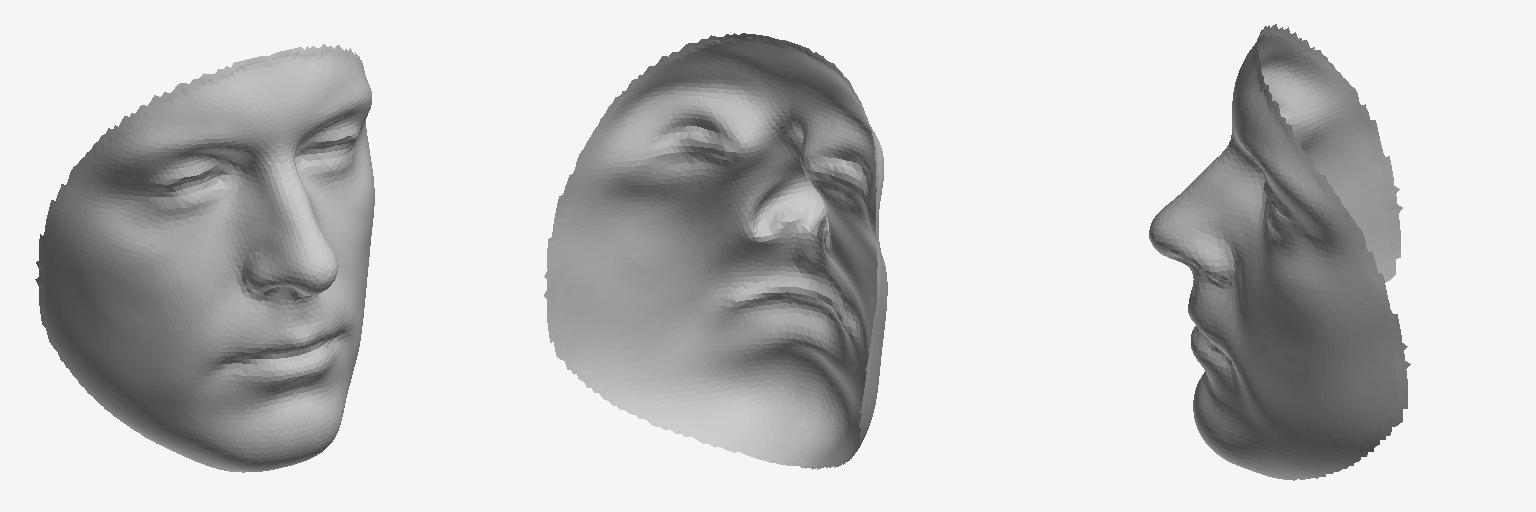
Rendered from SIMPOP_28.obj.
3 renders of one model, left to right at view 1: azimuth 30°, elevation 25°; view 2: azimuth 150°, elevation 25°; view 3: azimuth 270°, elevation 25°, orthographic.
Parts seen in each view (by area): view 1: SIMPOP_28; view 2: SIMPOP_28; view 3: SIMPOP_28.
Part boxes in pixels (x1,y1,x2,y2): SIMPOP_28: (35,44,374,472); SIMPOP_28: (544,33,887,469); SIMPOP_28: (1149,24,1410,480).
Size of the model in its own units: 147 by 182 by 103.